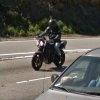Motorcycle: (26, 23, 72, 78)
